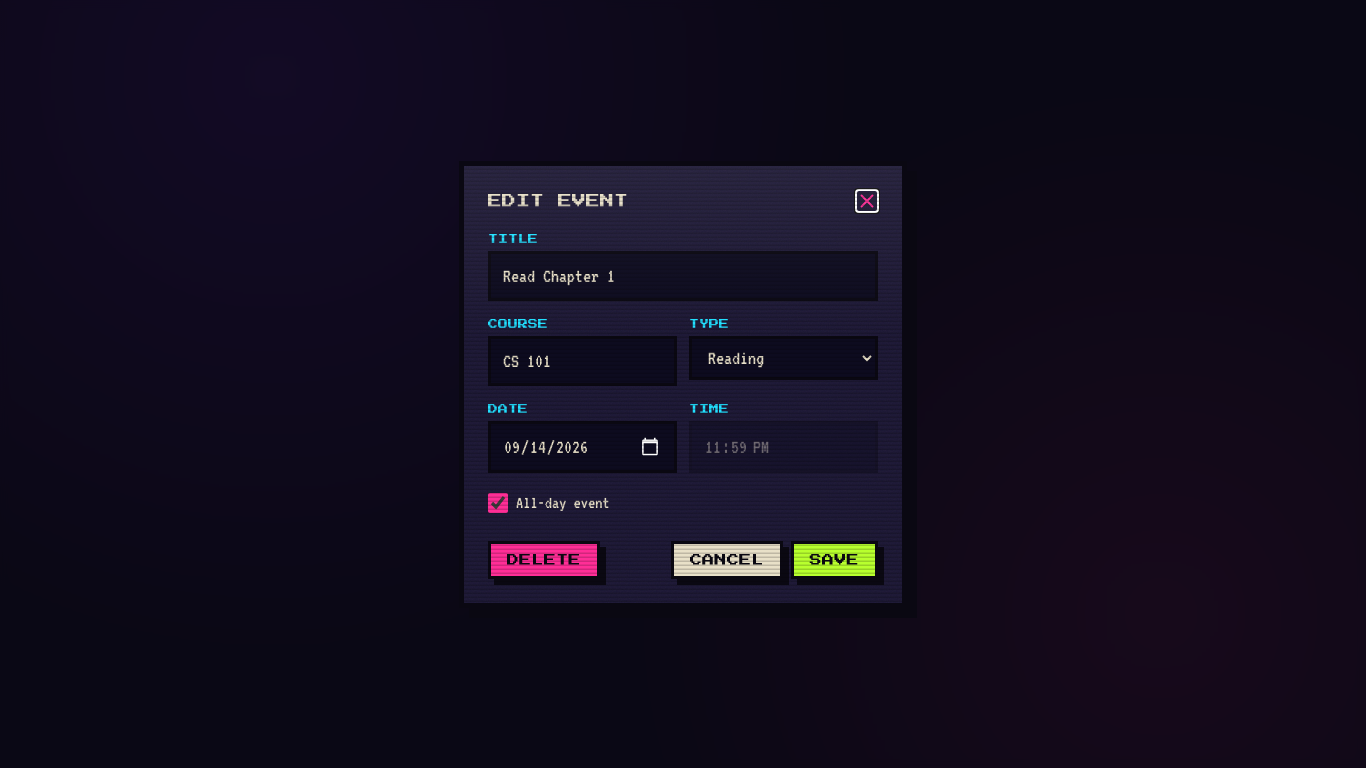
EventEditor › reveals a custom-label field when type is switched to "other"
The image size is (1366, 768).
Expected: the field with placeholder "Lab, Discussion" is not shown
Select "Other" in the dropdown at (784, 358), box [689,336,878,380]
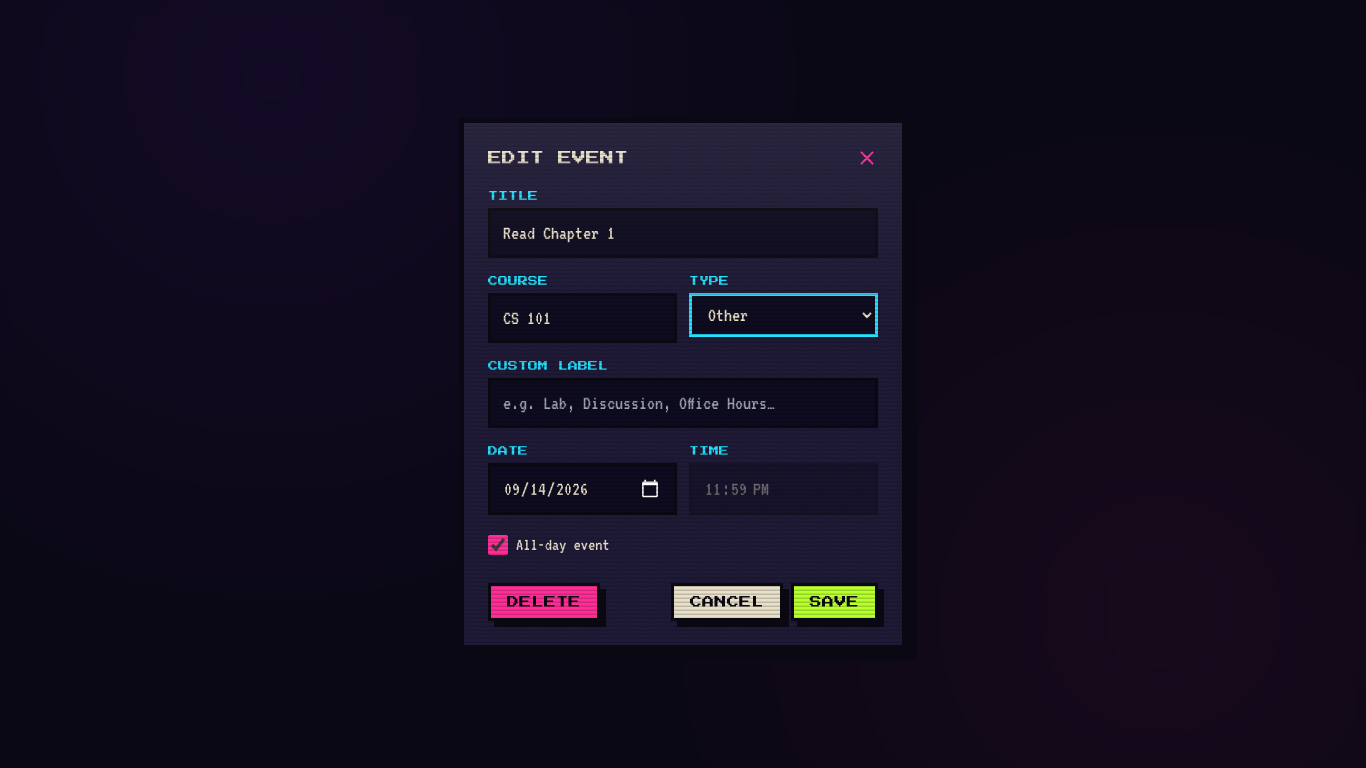
Expected: the field with placeholder "e.g. Lab, Discussion, Office Hours…" is shown, [488,378,878,428]
